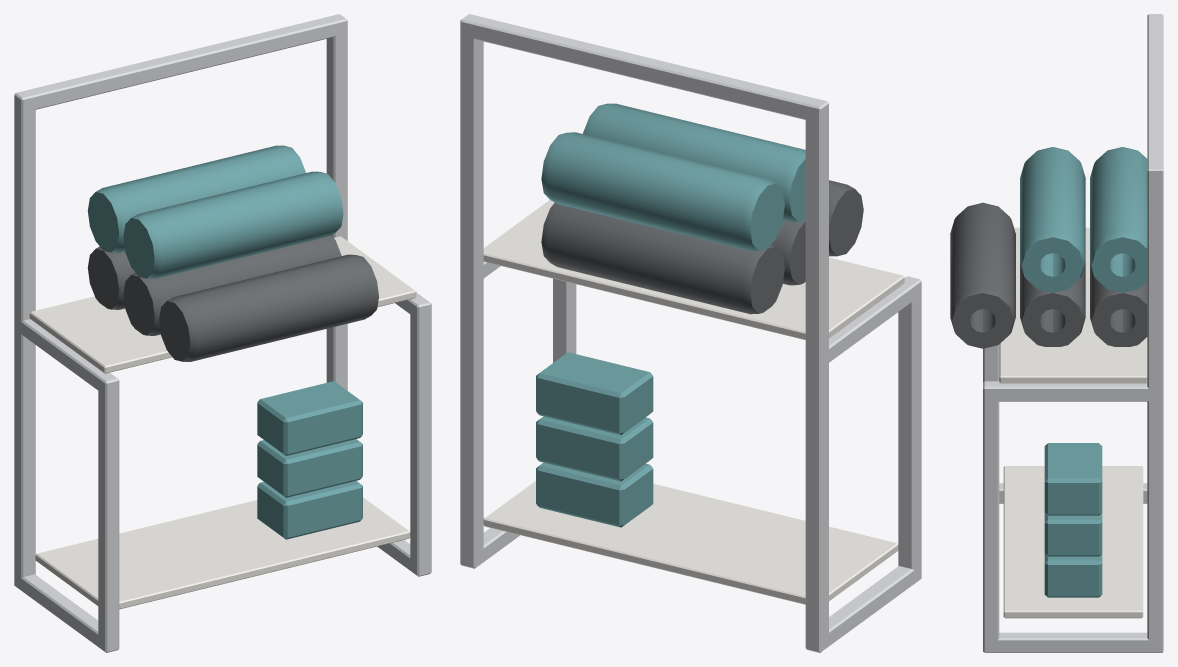
File: hotel-and-resort-operations-exercise-mat-rack-02a79d48__25935.glb
3 renders of one model, left to right at view 1: azimuth 30°, elevation 25°; view 2: azimuth 150°, elevation 25°; view 3: azimuth 270°, elevation 25°, orthographic. The views are drawn at different scales.
Parts seen in each view (by area): view 1: exercise-mat-rack; view 2: exercise-mat-rack; view 3: exercise-mat-rack.
Boxes of the visible parts, box(x1,y1,x2,y2) form: exercise-mat-rack: box(14, 14, 431, 652); exercise-mat-rack: box(460, 14, 921, 652); exercise-mat-rack: box(950, 14, 1163, 652).
Size of the model in its own units: 0.9 by 1.3 by 0.52.
